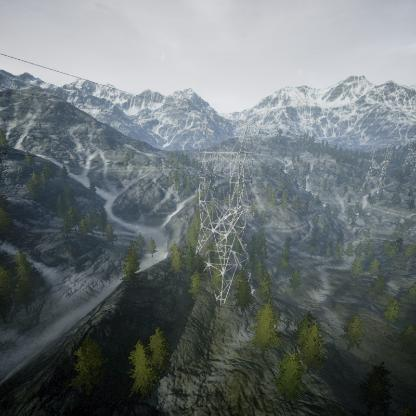tower: (188, 119, 259, 302)
